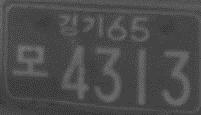1: (127, 48, 157, 106)
3: (162, 49, 192, 107), (93, 45, 121, 102)
4: (60, 46, 90, 100)
5: (130, 16, 149, 42)
6: (108, 13, 127, 42)
경기_O: (57, 12, 105, 39)
모: (13, 45, 50, 79)
